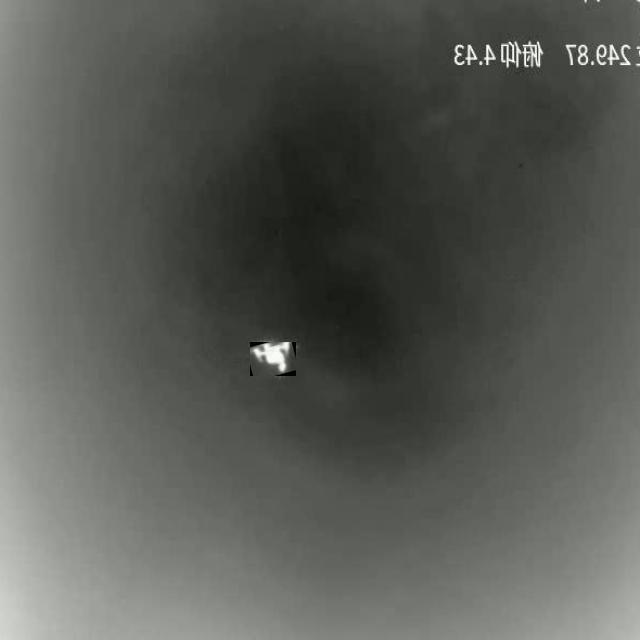drone: (250, 342, 296, 377)
